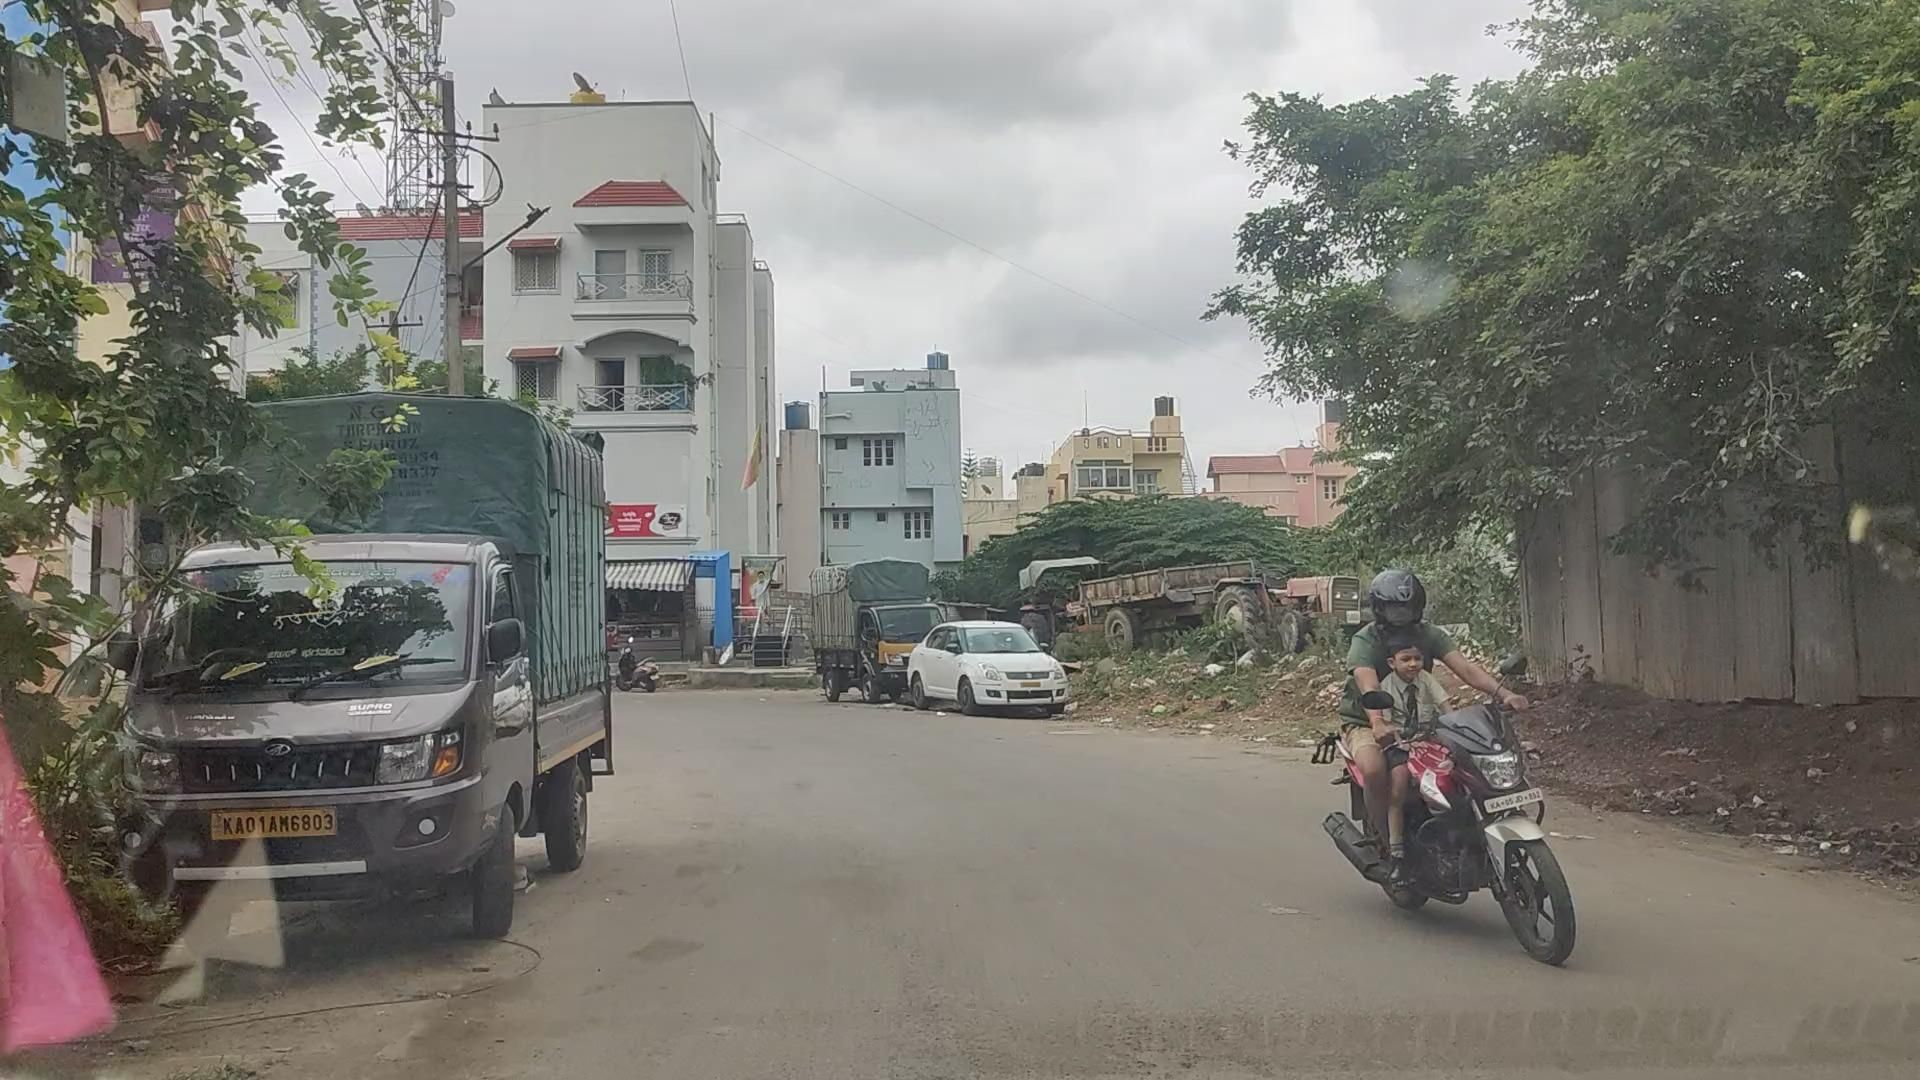LMV: (1309, 575, 1600, 973)
